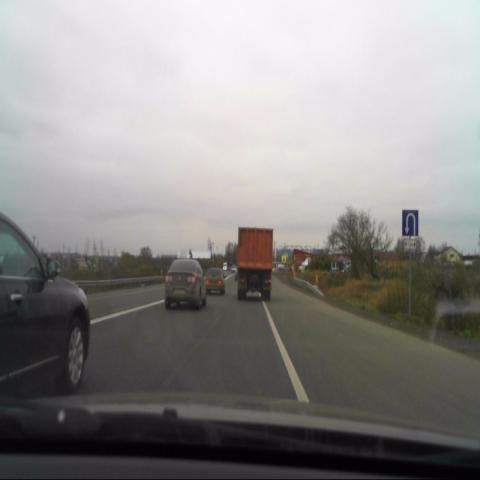6_3_1: (401, 208, 419, 237)
